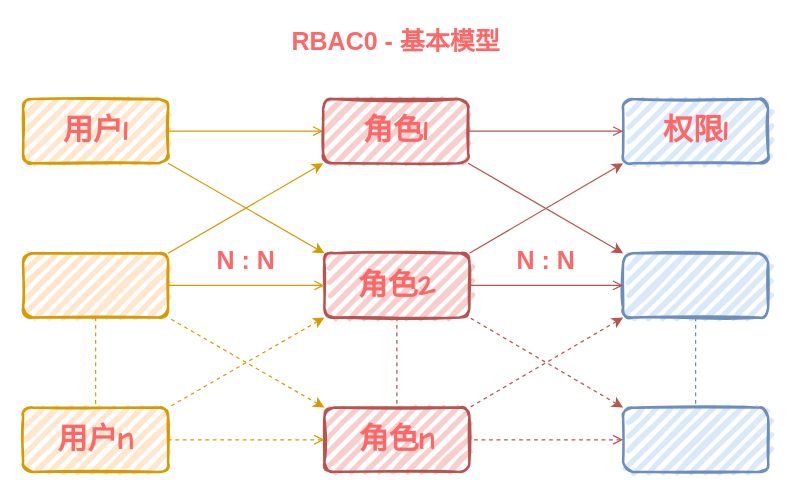
Image size: 790x500. Some labels were removed from this diagram. The shapes that lost their labels are listed below. From the top down, each one's centre as x and y in pixels, then its label:
At pixel 95 284: "用户2".
At pixel 695 284: "权限2".
At pixel 695 439: "权限n".
